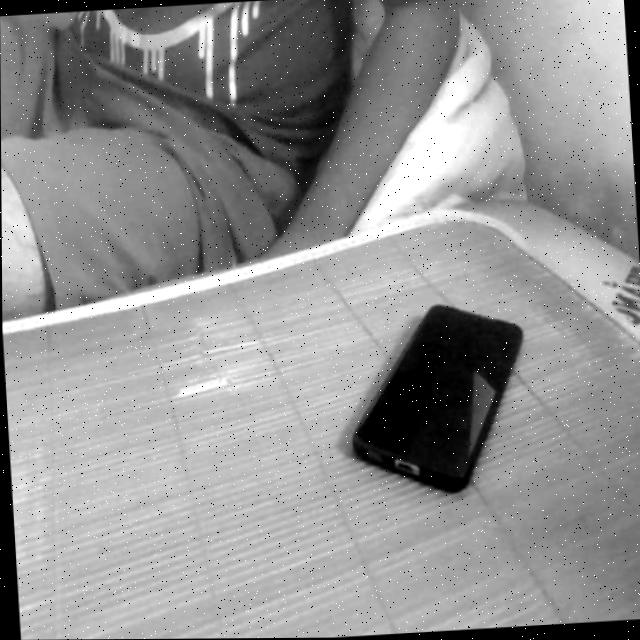phone: (326, 275, 550, 516)
